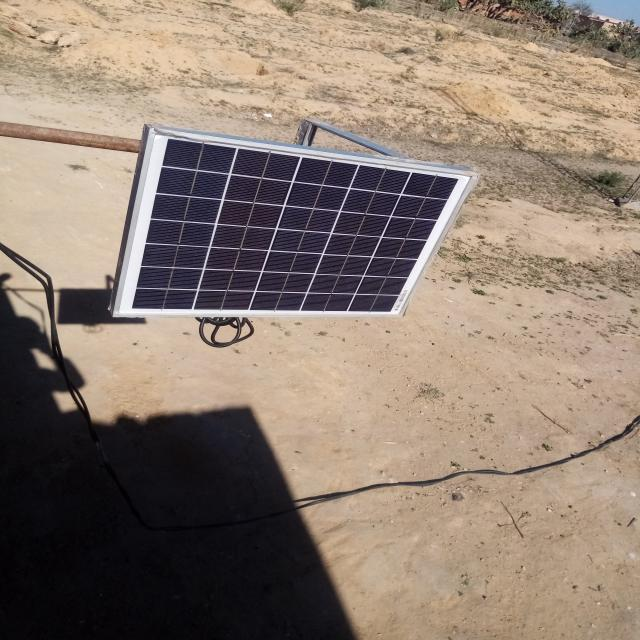no faulty: (113, 131, 474, 315)
